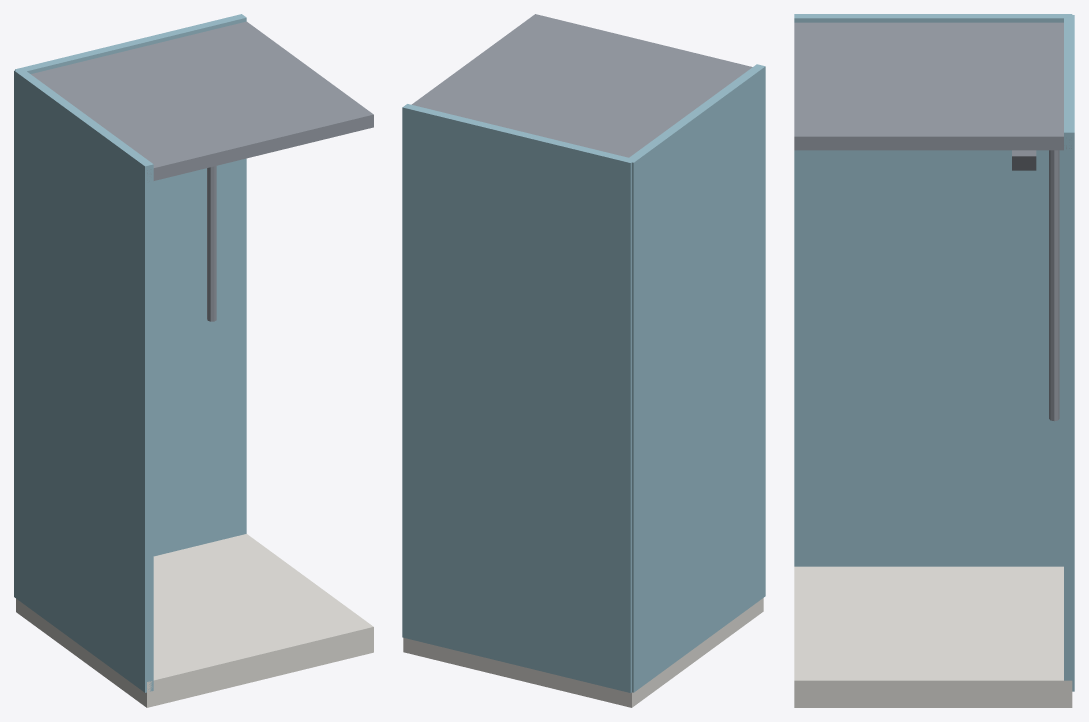
3 renders of one model, left to right at view 1: azimuth 30°, elevation 25°; view 2: azimuth 150°, elevation 25°; view 3: azimuth 270°, elevation 25°, orthographic. The views are drawn at different scales.
Parts seen in each view (by area): view 1: Glass.Side, Glass.Back, Frame.Top, Tray, Pipe; view 2: Glass.Back, Glass.Side, Frame.Top, Tray; view 3: Glass.Side, Tray, Frame.Top, Glass.Back, Pipe, Head.
Part boxes in pixels (bbox=[...]): Glass.Side: bbox=[14, 70, 153, 692]; Glass.Back: bbox=[15, 14, 246, 556]; Frame.Top: bbox=[31, 21, 373, 181]; Tray: bbox=[16, 534, 373, 707]; Pipe: bbox=[207, 166, 216, 321]; Glass.Back: bbox=[402, 104, 635, 692]; Glass.Side: bbox=[629, 64, 765, 692]; Frame.Top: bbox=[412, 14, 752, 157]; Tray: bbox=[403, 598, 763, 707]; Glass.Side: bbox=[794, 14, 1072, 566]; Tray: bbox=[794, 566, 1072, 707]; Frame.Top: bbox=[794, 22, 1071, 150]; Glass.Back: bbox=[1064, 15, 1074, 691]; Pipe: bbox=[1049, 150, 1059, 421]; Head: bbox=[1012, 150, 1036, 170].
Size of the model in its own units: 0.9275 by 2.1 by 0.9275.
